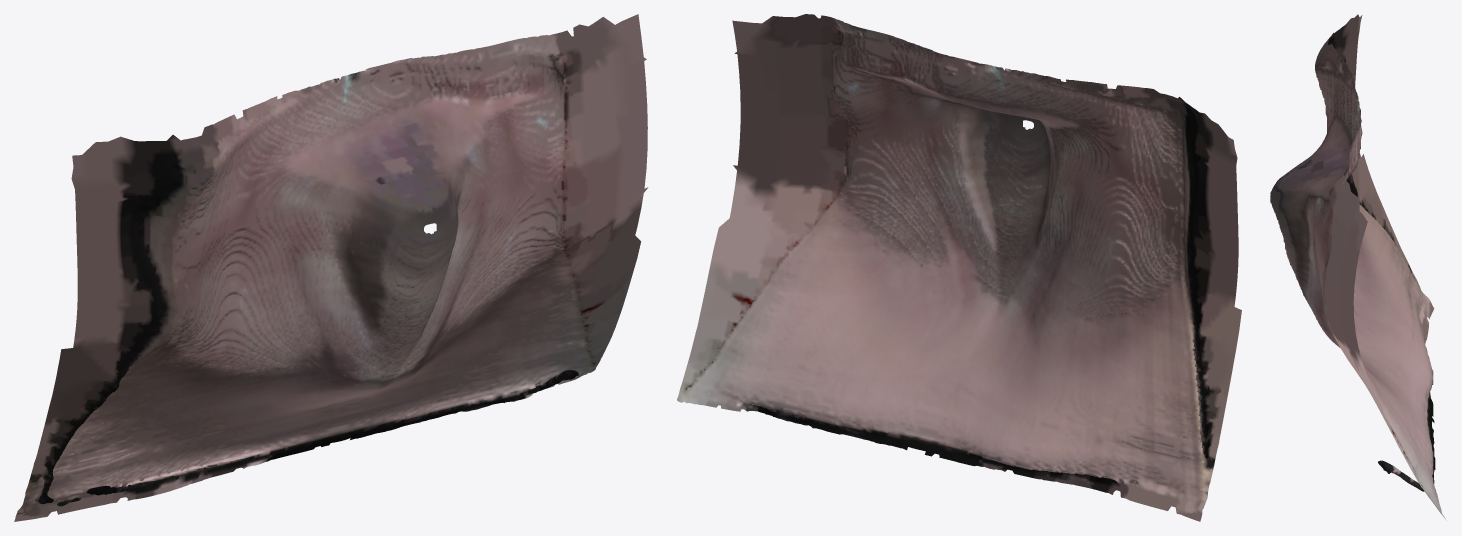
Rendered from vocal (45) - original.gltf.
The picture shows the model from 3 angles, left to right: view 1: azimuth 30°, elevation 25°; view 2: azimuth 150°, elevation 25°; view 3: azimuth 270°, elevation 25°; orthographic projection. The views are drawn at different scales.
Bounding box in the file's own units: 0.00152 × 0.00102 × 0.000529.
